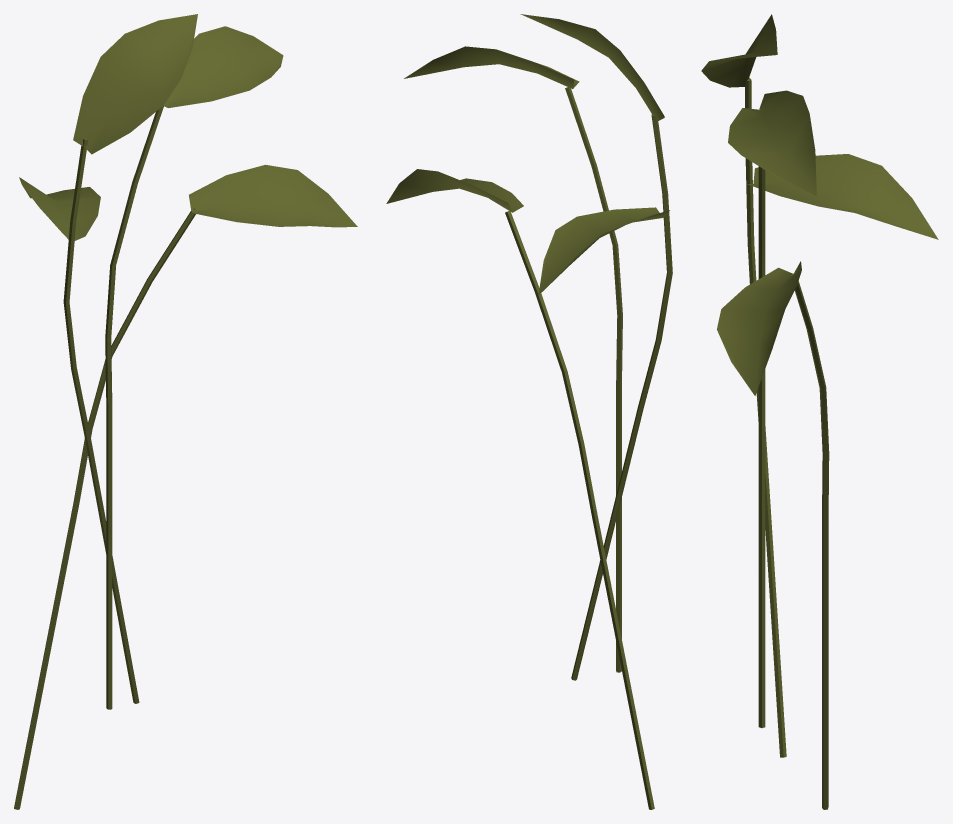
Rendered from TallPlant.fbx.
3 views of the same model, side by side, from view 1: azimuth 30°, elevation 25°; view 2: azimuth 150°, elevation 25°; view 3: azimuth 270°, elevation 25° (orthographic). The views are drawn at different scales.
Visible parts, largest first — view 1: Leaf (×3), Stem (×3), Leaf1; view 2: Stem (×3), Leaf (×3), Leaf1; view 3: Leaf (×3), Stem (×3), Leaf1.
Part boxes in pixels (x1,y1,x2,y2): Leaf (×3): (73,14,357,227); Stem (×3): (14,106,195,809); Leaf1: (19,177,100,240); Stem (×3): (505,87,672,809); Leaf (×3): (386,14,664,212); Leaf1: (538,207,669,295); Leaf (×3): (701,14,816,395); Stem (×3): (745,77,829,809); Leaf1: (747,154,938,239).
Bounding box in the file's own units: 1.5 × 3.57 × 0.9131.
